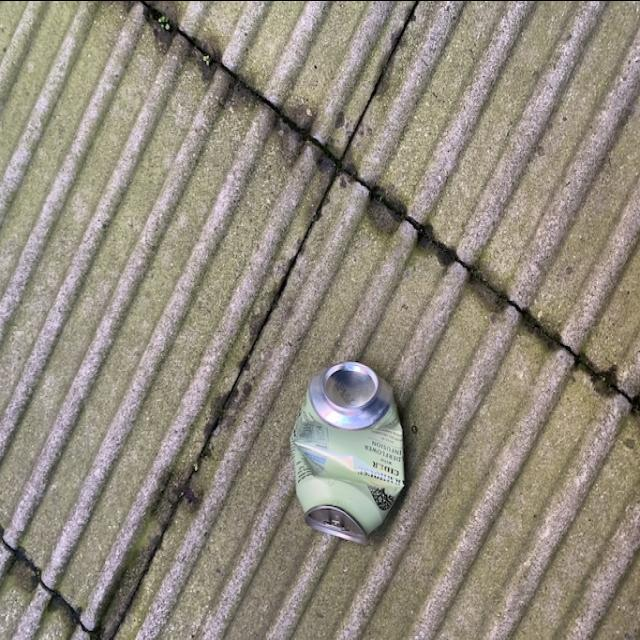Aluminum Can: (290, 348, 408, 542)
